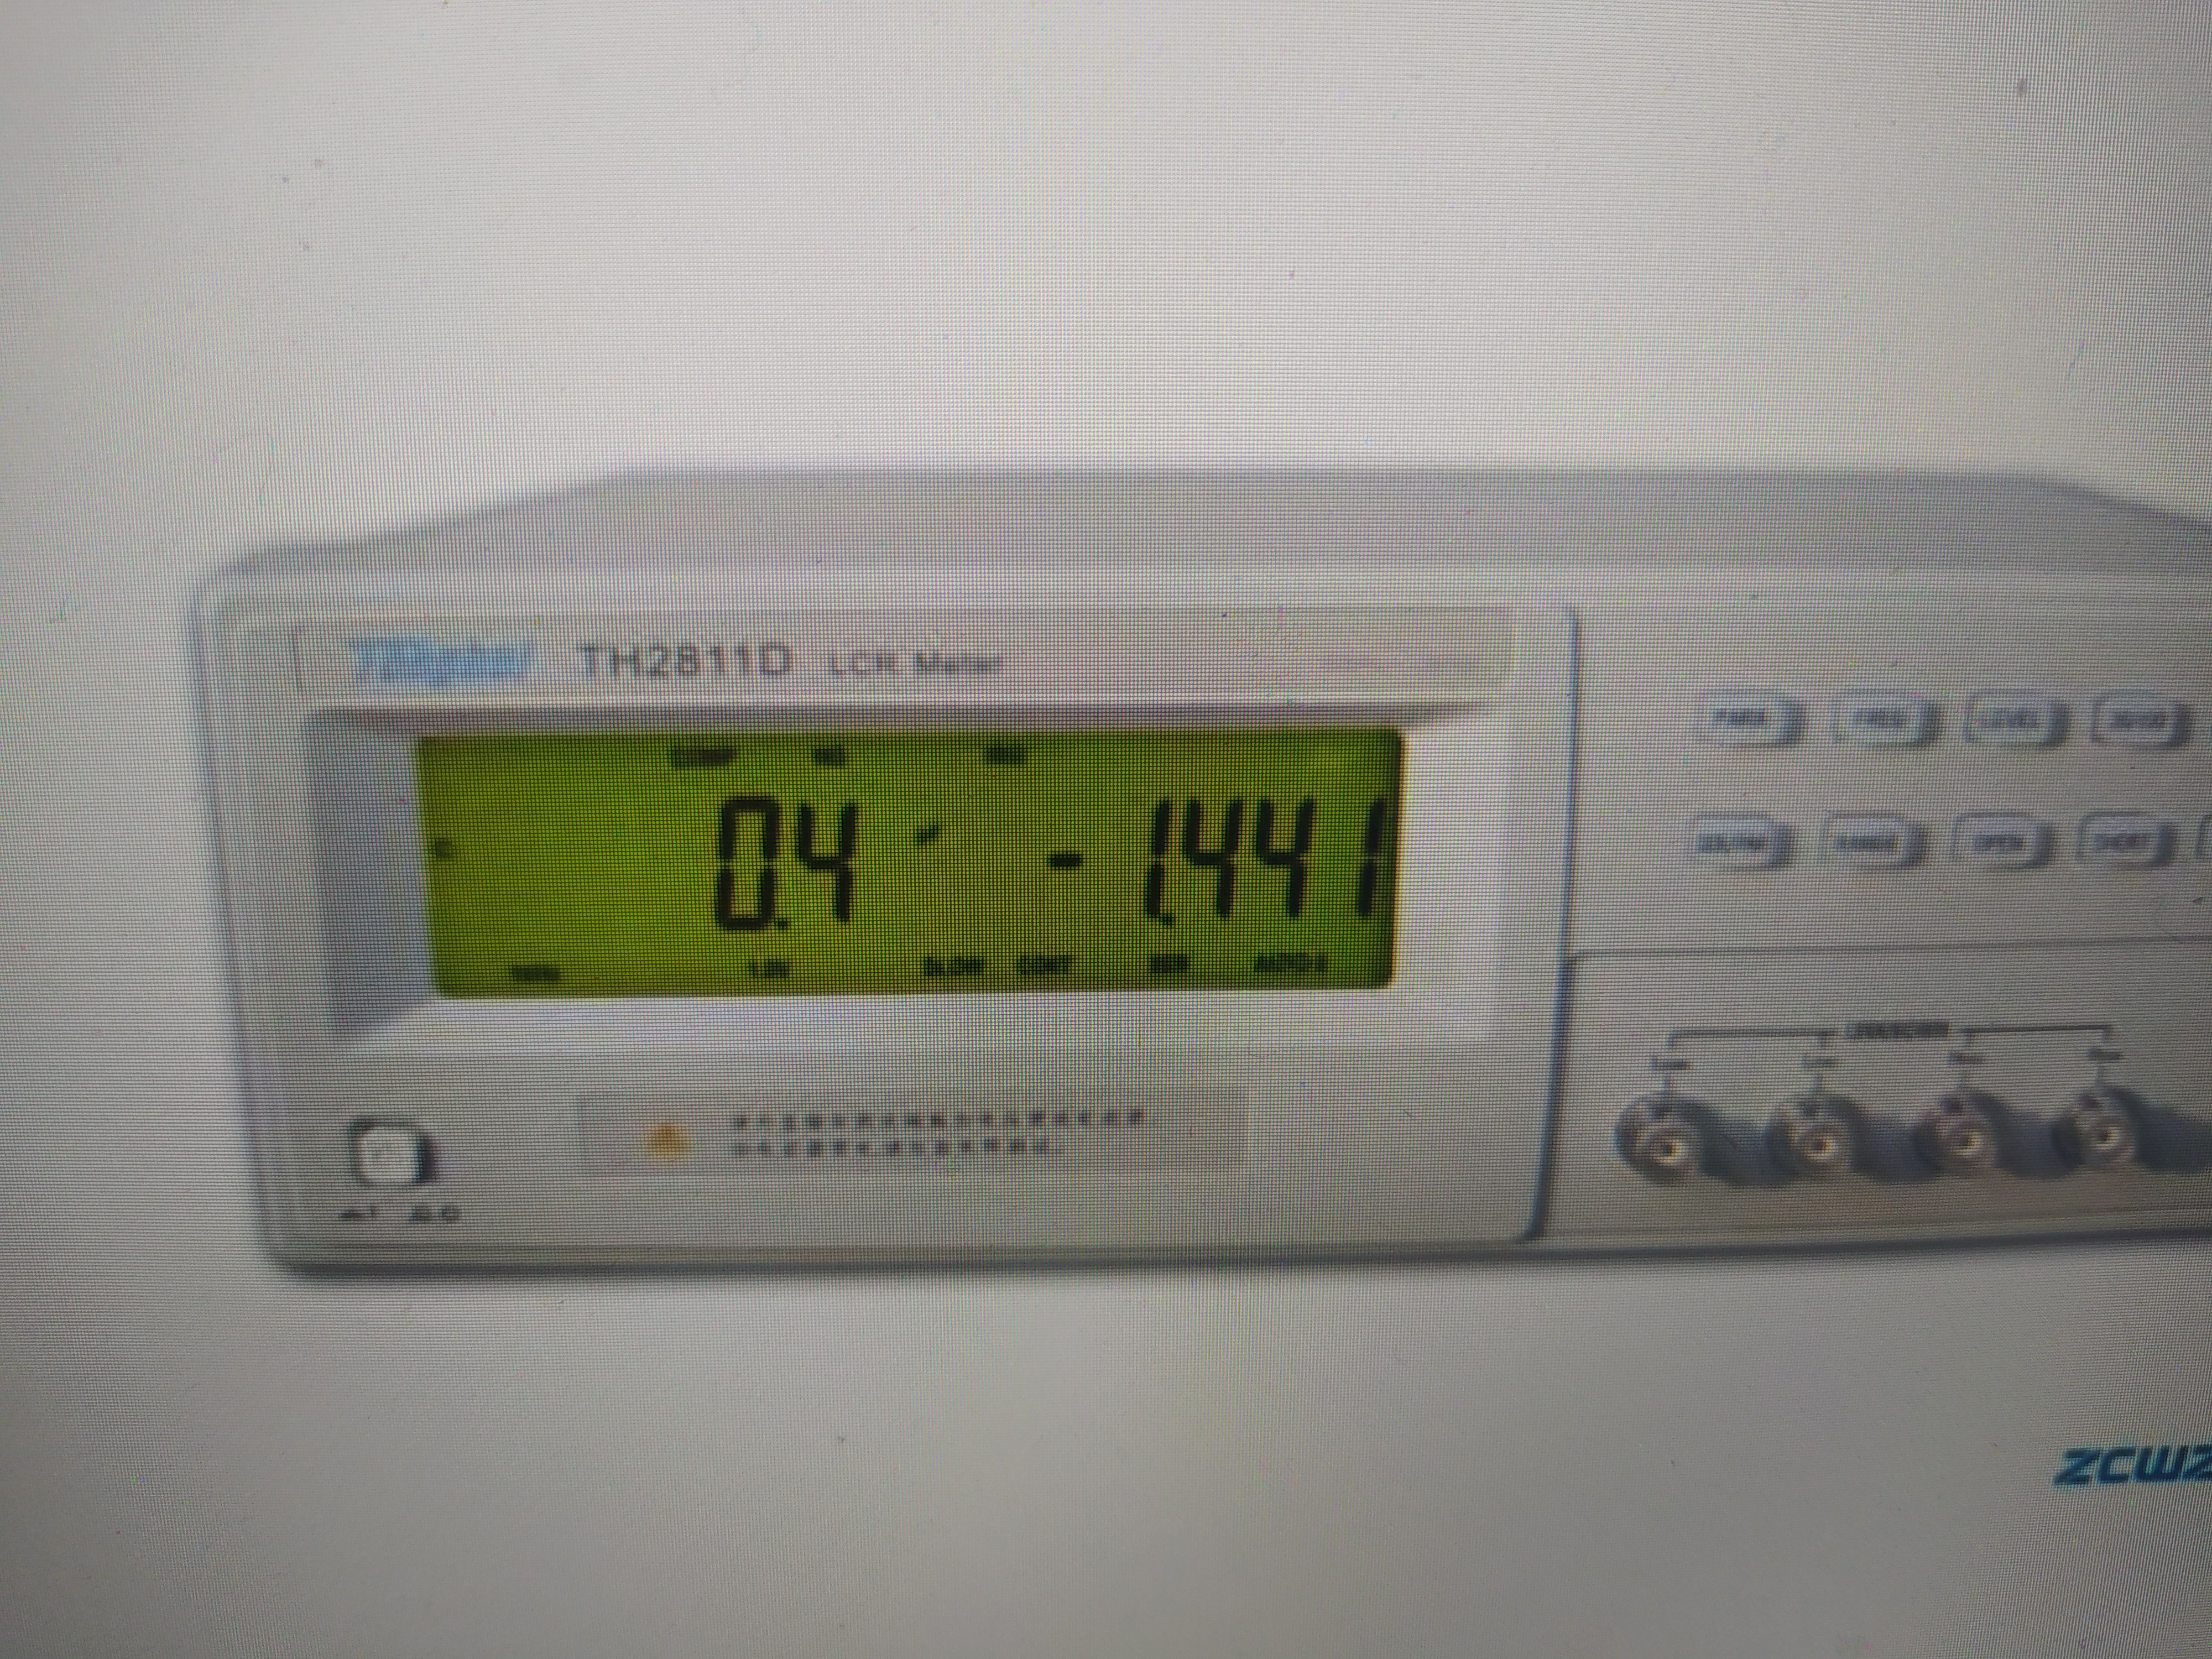.: (1160, 796, 1181, 925), (777, 798, 792, 936)
0: (712, 795, 779, 932)
1: (1113, 796, 1169, 925), (1331, 796, 1383, 924), (728, 640, 754, 683), (704, 640, 728, 683)
2: (643, 641, 672, 681)
4: (796, 796, 862, 936), (1252, 795, 1322, 927), (1181, 795, 1245, 929)
8: (674, 641, 702, 678)
